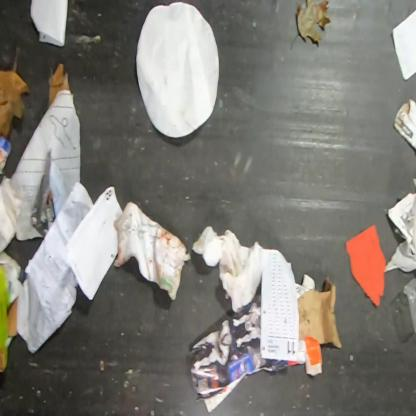cardboard: (298, 278, 342, 347), (0, 263, 17, 373), (0, 174, 23, 253)
rigid_plastic: (402, 278, 416, 338)
